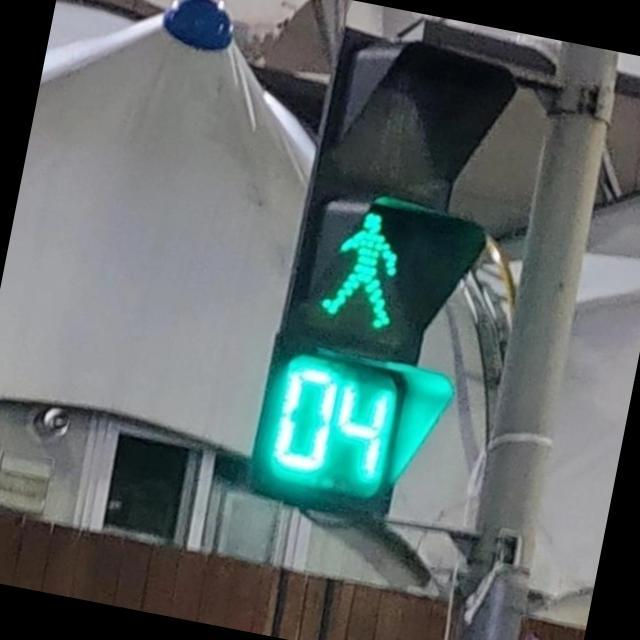greenlight: (275, 33, 515, 357)
